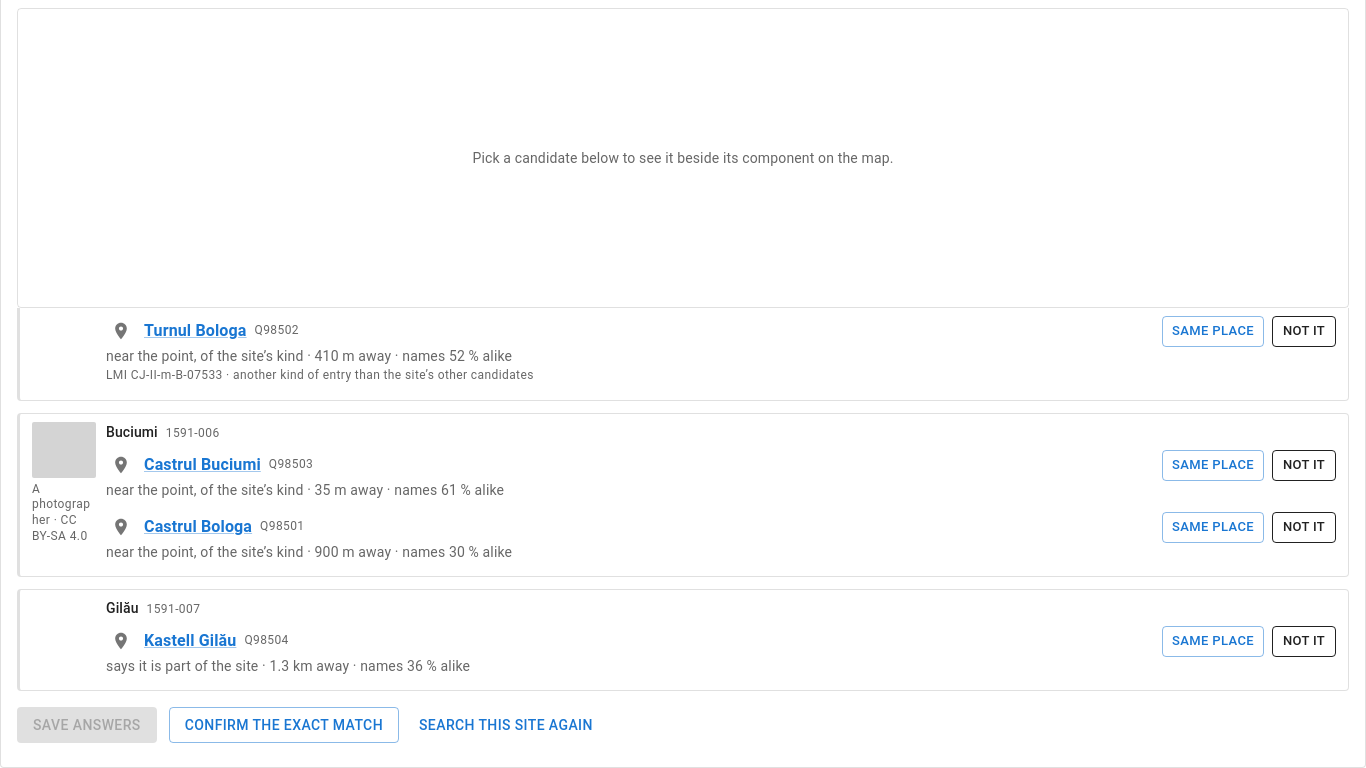
Test case: searching one site's components again (#1429) › offers an admin the search narrowed to this site, and says it is running
This screenshot has width=1366, height=768.
(page scrolled)
Step 1. Click the button "Search this site again" → x=506, y=725, box [411,707,601,743]
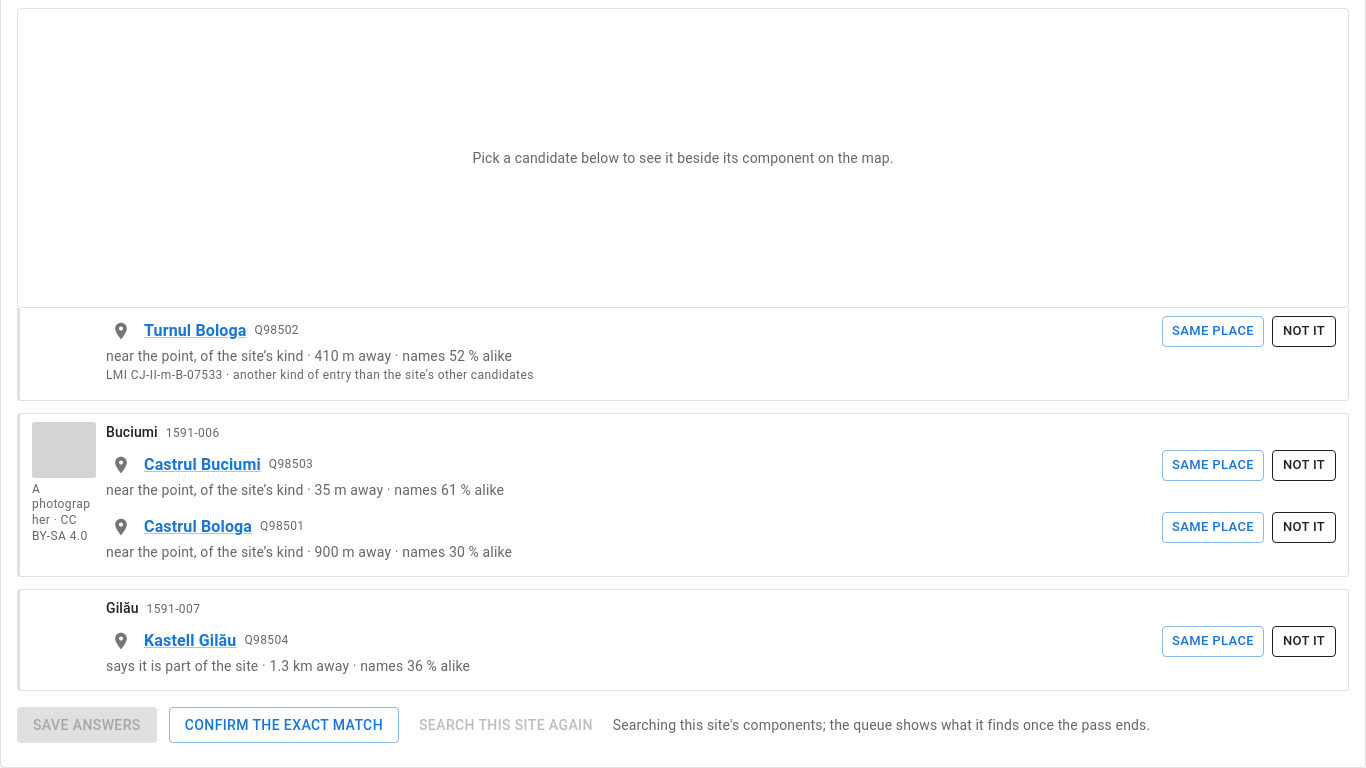
expect the text "Searching this site's components" is shown: met, box [613,717,1150,733]
expect the button "Search this site again" is disabled: met, box [411,707,601,743]
